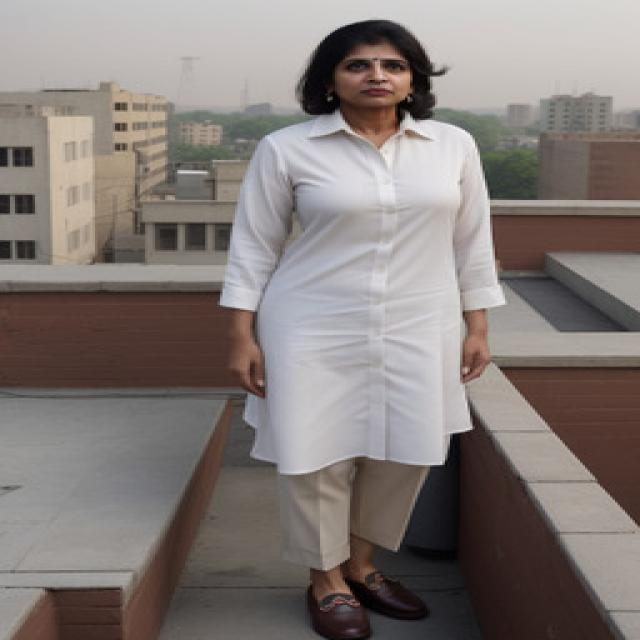Ai human 2: (214, 9, 523, 640)
